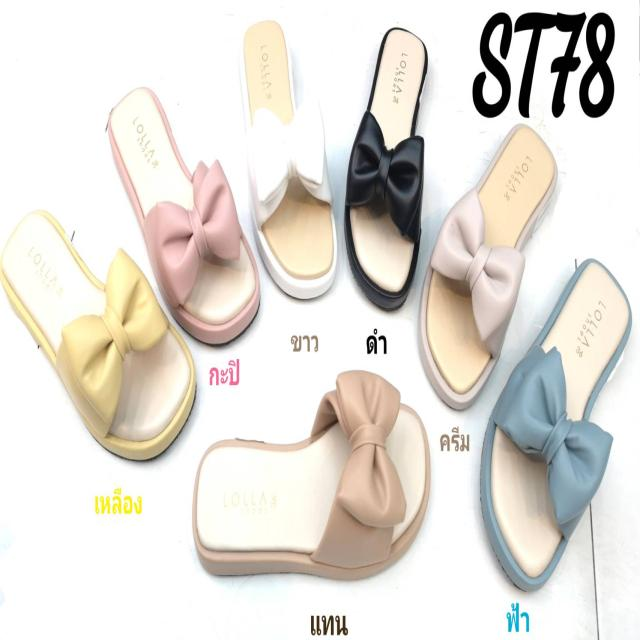black: (351, 26, 427, 306)
blue: (482, 260, 630, 590)
cream: (424, 124, 560, 402)
kapi: (112, 87, 258, 338)
tan: (191, 383, 429, 576)
white: (244, 18, 338, 298)
yellow: (2, 212, 193, 458)
